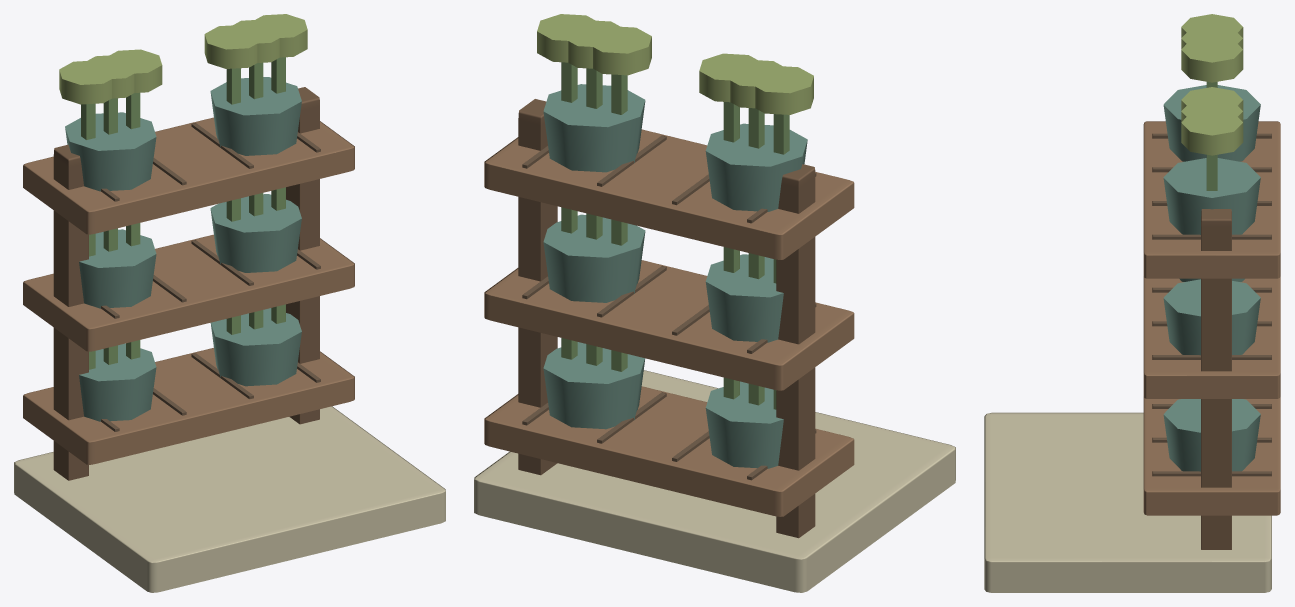
File: herbshelf-1.glb
3 renders of one model, left to right at view 1: azimuth 30°, elevation 25°; view 2: azimuth 150°, elevation 25°; view 3: azimuth 270°, elevation 25°, orthographic. The views are drawn at different scales.
Visible parts, largest first — view 1: herbshelf-1-0; view 2: herbshelf-1-0; view 3: herbshelf-1-0.
Part boxes in pixels (<box>): herbshelf-1-0: <box>14,14,445,592</box>; herbshelf-1-0: <box>474,14,955,592</box>; herbshelf-1-0: <box>984,14,1280,592</box>.
Bounding box in the file's own units: 0.8 × 1.1 × 0.67.
